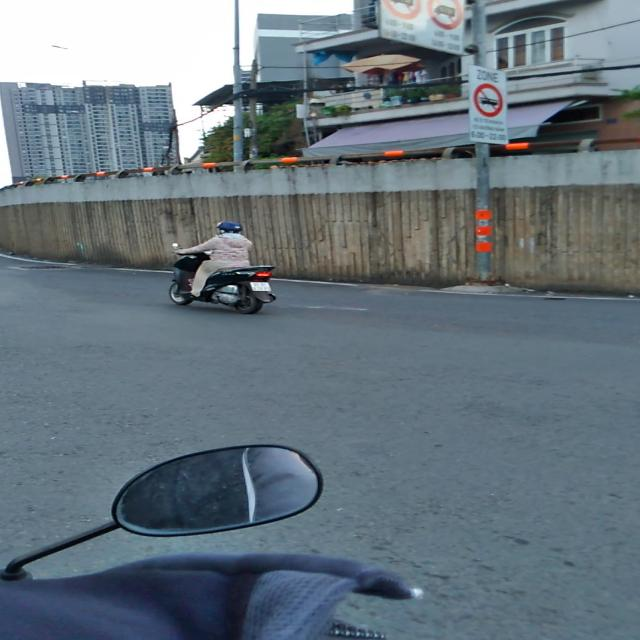Cam con lai: (426, 0, 463, 30), (473, 83, 503, 118), (380, 0, 421, 20)
